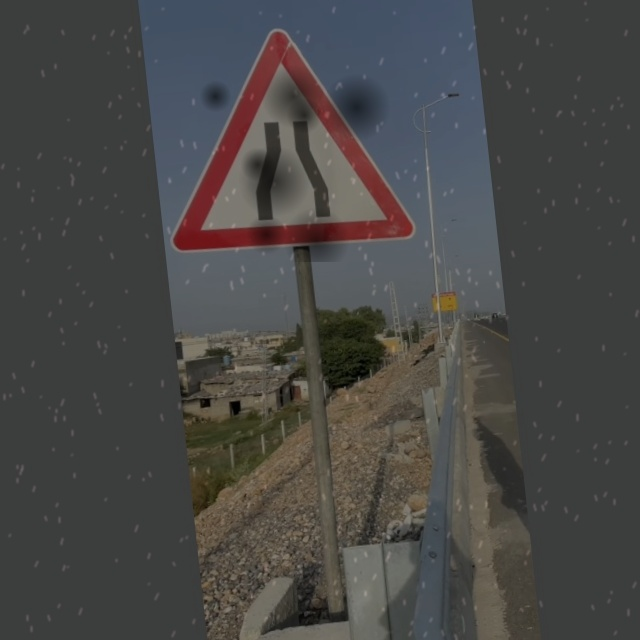Narrow_Road_Ahead: (166, 16, 416, 262)
